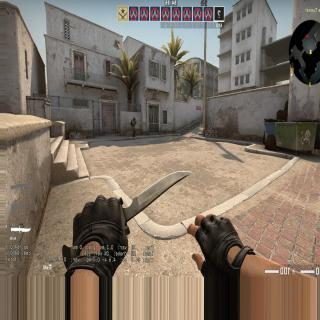CT-Body: (130, 116, 137, 137)
CT-Head: (132, 117, 136, 121)
